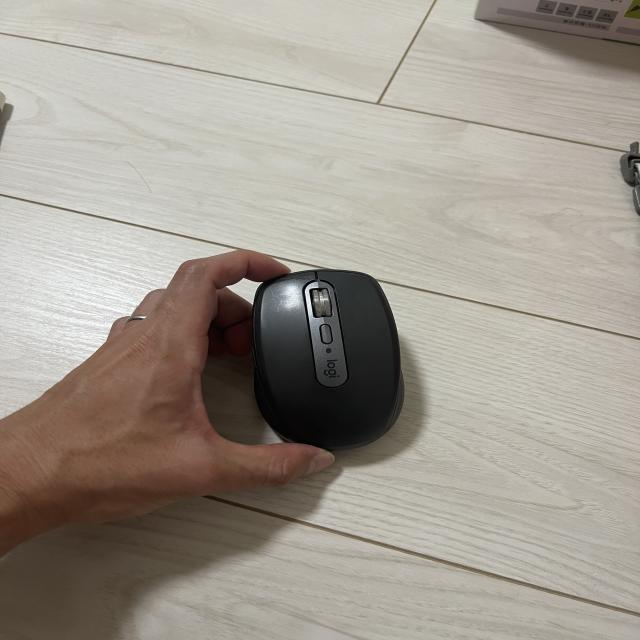mouse: (254, 273, 402, 444)
